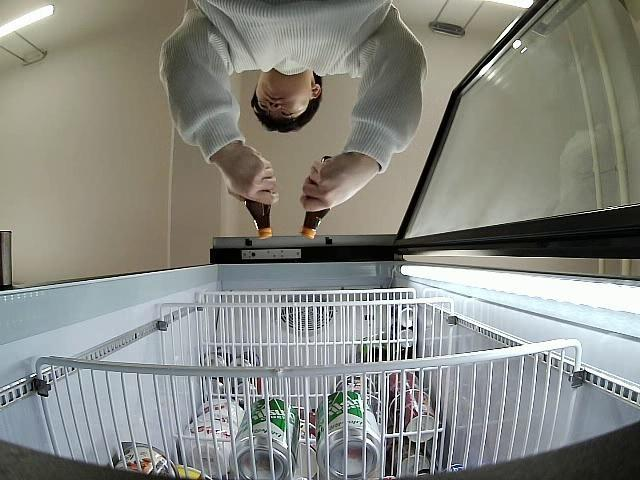17_vita500: (301, 155, 340, 237), (246, 195, 272, 241)
